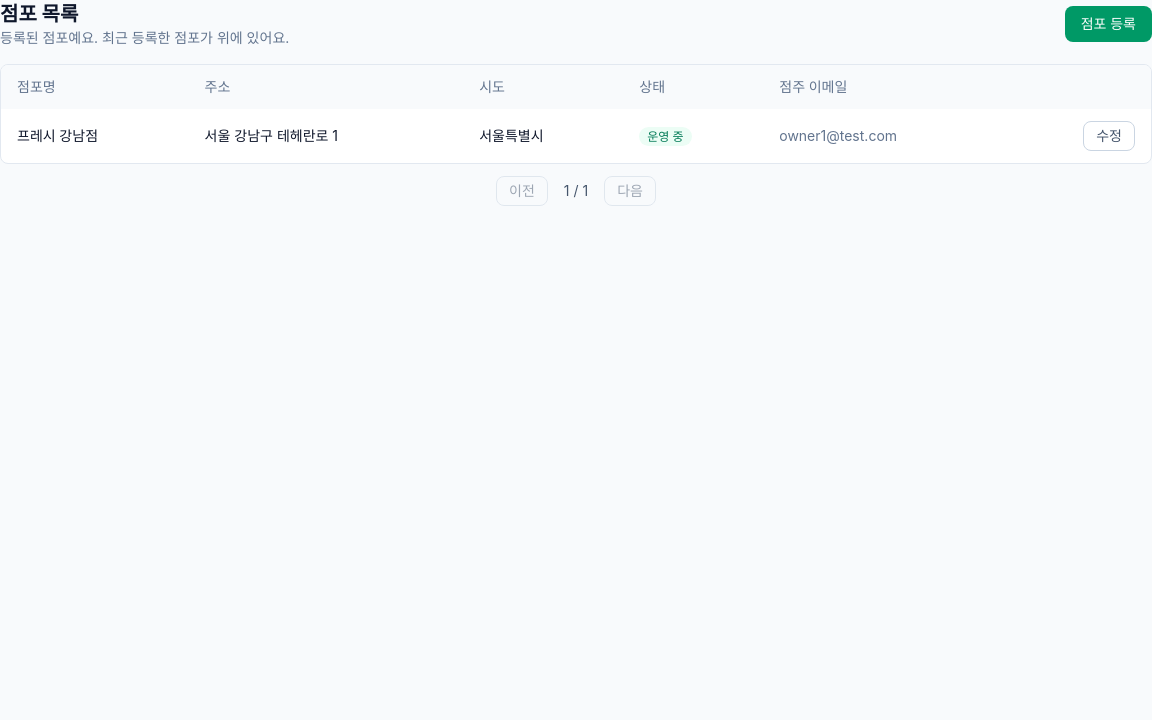
Scenario: 관리자 점포 수정 모달 (A-02) › ACTIVE 점포 [수정] → 행 값이 초기값, 바꾼 게 없으면 [저장] 비활성
This screenshot has width=1152, height=720.
Click the button with aria-label "프레시 강남점 수정" at (1109, 136), box [1083,121,1135,151]
(page scrolled)
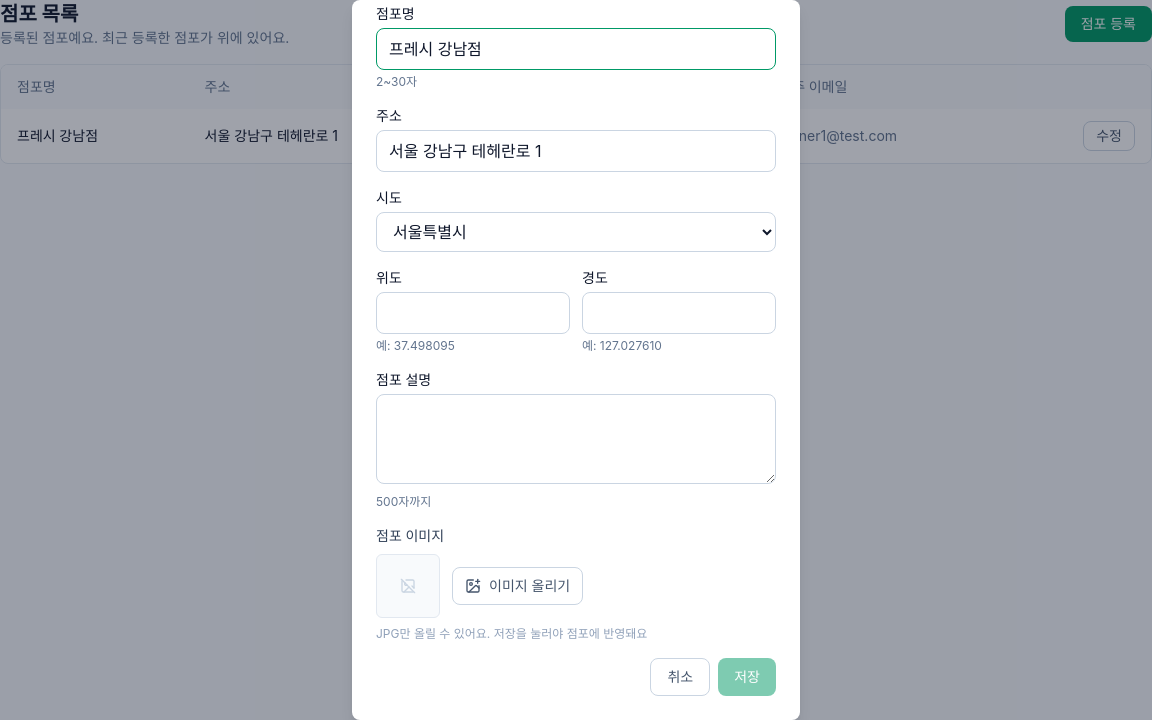
Result: the field labelled "점포명" holds "프레시 강남점" at [376,28,776,70]
Result: the field labelled "주소" holds "서울 강남구 테헤란로 1" at [376,130,776,172]
Result: the dropdown labelled "시도" shows "서울특별시" at [376,212,776,252]
